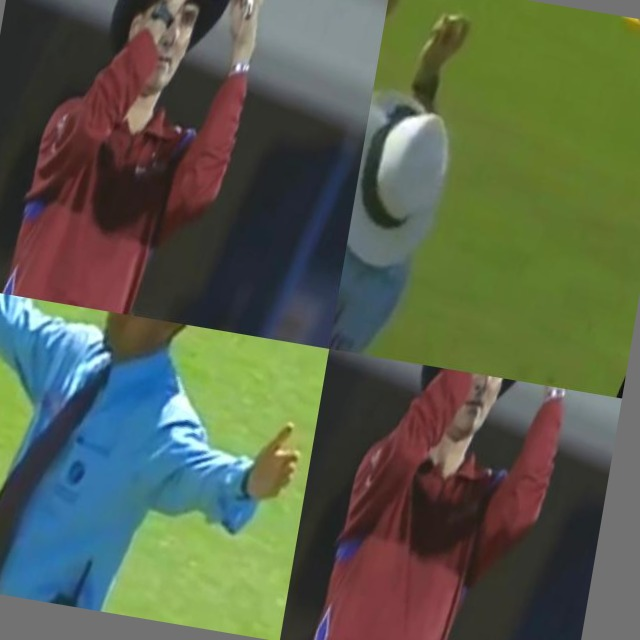Six: (0, 0, 338, 340), (280, 349, 621, 640), (329, 0, 564, 378)
Wide: (0, 286, 329, 602)
